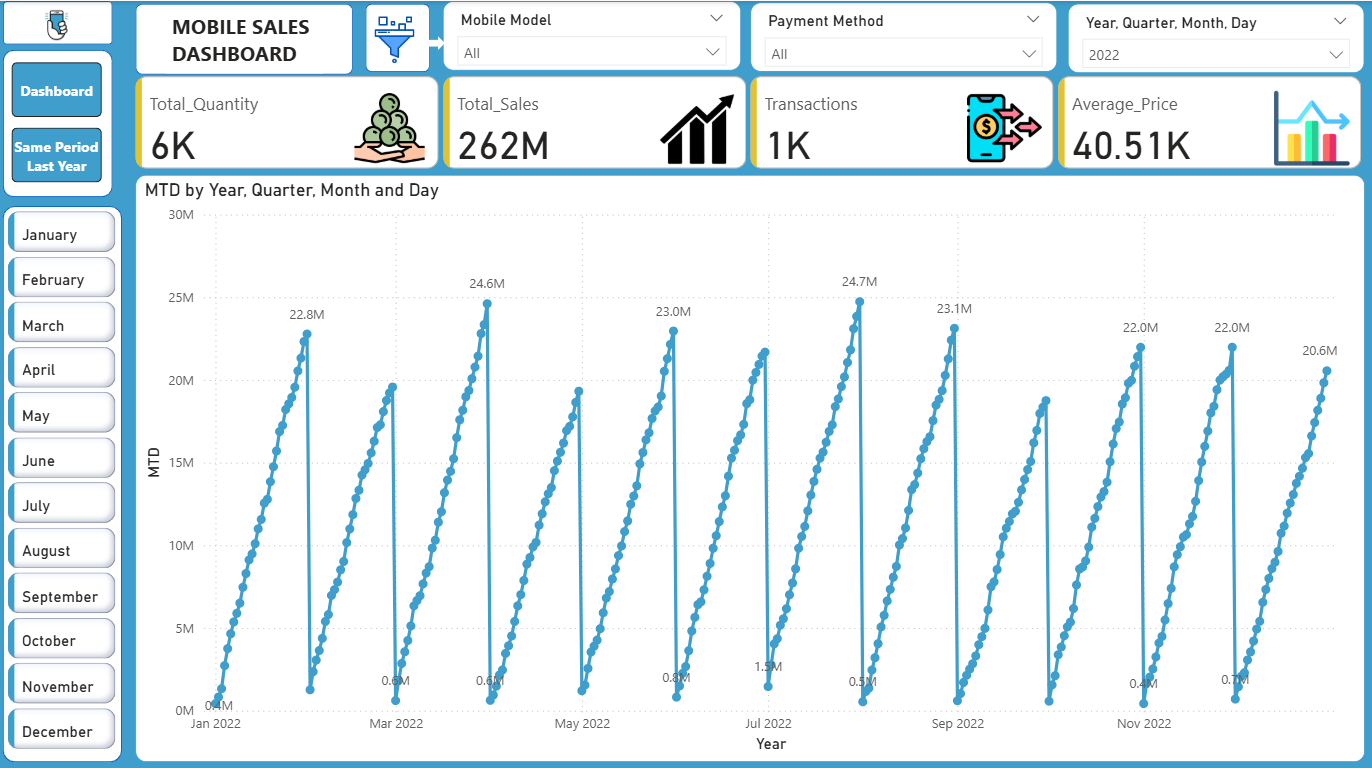

This screenshot's page, from the dashboard's own definition file:
{"tool":"powerbi","page":{"name":"MTD Report","canvas":[1280,720],"ordinal":1},"visuals":[{"type":"shape","box":[3.5,0,102.3,40.7],"z":0},{"type":"image","box":[29.1,0,50,45.3],"z":1000},{"type":"shape","box":[3.5,45.3,102.3,137.2],"z":2000},{"type":"cardVisual","fields":{"Data":["Sales_Data.Total_Quantity","Sales_Data.Total_Sales","Sales_Data.Transactions","Sales_Data.Average_Price"]},"box":[121.9,65.1,1153.4,96.5],"z":3000},{"type":"slicer","fields":{"Values":["Sales_Data.Mobile Model"]},"box":[412.6,0,277.5,65.1],"z":4000},{"type":"slicer","fields":{"Values":["Sales_Data.Payment Method"]},"box":[698.5,1.2,285.9,65.1],"z":5000},{"type":"slicer","fields":{"Values":["Custom_Calender.Date.Variation.Date Hierarchy.Year","Custom_Calender.Date.Variation.Date Hierarchy.Quarter","Custom_Calender.Date.Variation.Date Hierarchy.Month","Custom_Calender.Date.Variation.Date Hierarchy.Day"]},"box":[994.1,2.4,276.3,65.1],"z":6000},{"type":"shape","box":[340.2,2.4,60.3,63.9],"z":7000},{"type":"image","box":[340.2,8.4,54.3,55.5],"z":8000},{"type":"shape","box":[126.7,2.4,202.7,66.4],"z":10000},{"type":"textbox","box":[155.6,6,146,61.5],"z":11000},{"type":"lineChart","fields":{"Y":["Sales_Data.MTD"],"Category":["Custom_Calender.Date.Variation.Date Hierarchy.Year","Custom_Calender.Date.Variation.Date Hierarchy.Quarter","Custom_Calender.Date.Variation.Date Hierarchy.Month","Custom_Calender.Date.Variation.Date Hierarchy.Day"]},"box":[126.7,161.7,1143.7,546.5],"z":12000},{"type":"shape","box":[3.6,190.6,111,517.6],"z":13000},{"type":"advancedSlicerVisual","fields":{"Values":["Custom_Calender.Date.Variation.Date Hierarchy.Month"]},"box":[3.6,190.6,111,517.6],"z":14000},{"type":"shape","box":[384.9,32.6,30.2,13.3],"z":14500},{"type":"pageNavigator","box":[12.1,56.7,84.5,113.4],"z":15000}]}

Visuals, with their boxes in screenshot pixels (x1, y1, x2, y2), scaled from the page's 1280x720 canvas onto the 1372x768 screenshot:
shape: 4:0:113:43
image: 31:0:85:48
shape: 4:48:113:195
cardVisual - Sales_Data.Total_Quantity x Sales_Data.Total_Sales: 131:69:1367:172
slicer - Sales_Data.Mobile Model: 442:0:740:69
slicer - Sales_Data.Payment Method: 749:1:1055:71
slicer - Custom_Calender.Date.Variation.Date Hierarchy.Year x Custom_Calender.Date.Variation.Date Hierarchy.Quarter: 1066:3:1362:72
shape: 365:3:429:71
image: 365:9:423:68
shape: 136:3:353:73
textbox: 167:6:323:72
lineChart - Sales_Data.MTD x Custom_Calender.Date.Variation.Date Hierarchy.Year: 136:172:1362:755
shape: 4:203:123:755
advancedSlicerVisual - Custom_Calender.Date.Variation.Date Hierarchy.Month: 4:203:123:755
shape: 413:35:445:49
pageNavigator: 13:60:104:181
